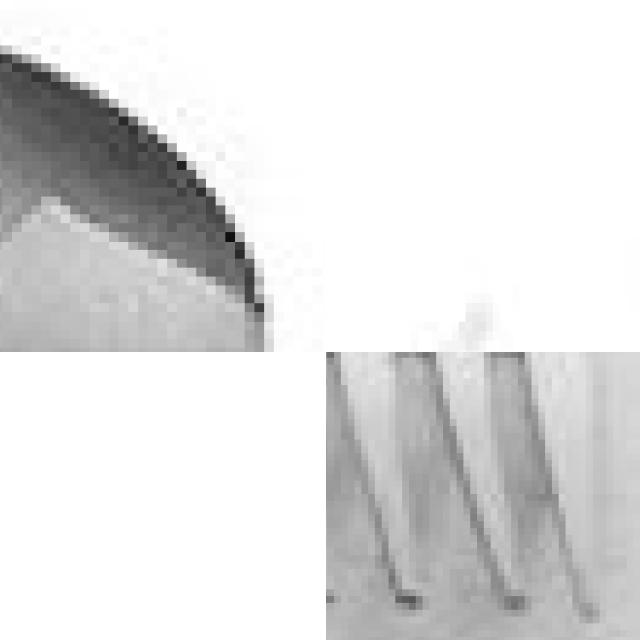forks: (326, 352, 640, 637)
spoons: (0, 0, 326, 352)
